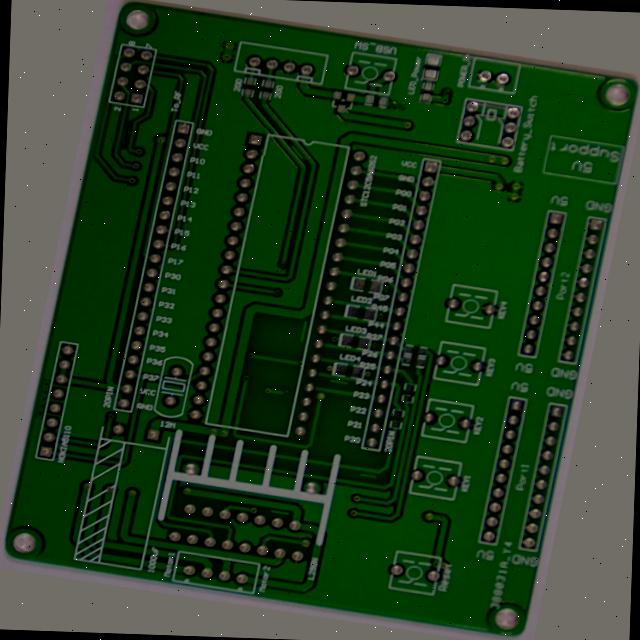spurious_copper: (248, 125, 274, 155), (293, 319, 312, 349), (391, 474, 423, 490), (297, 525, 329, 541), (338, 377, 368, 391)
